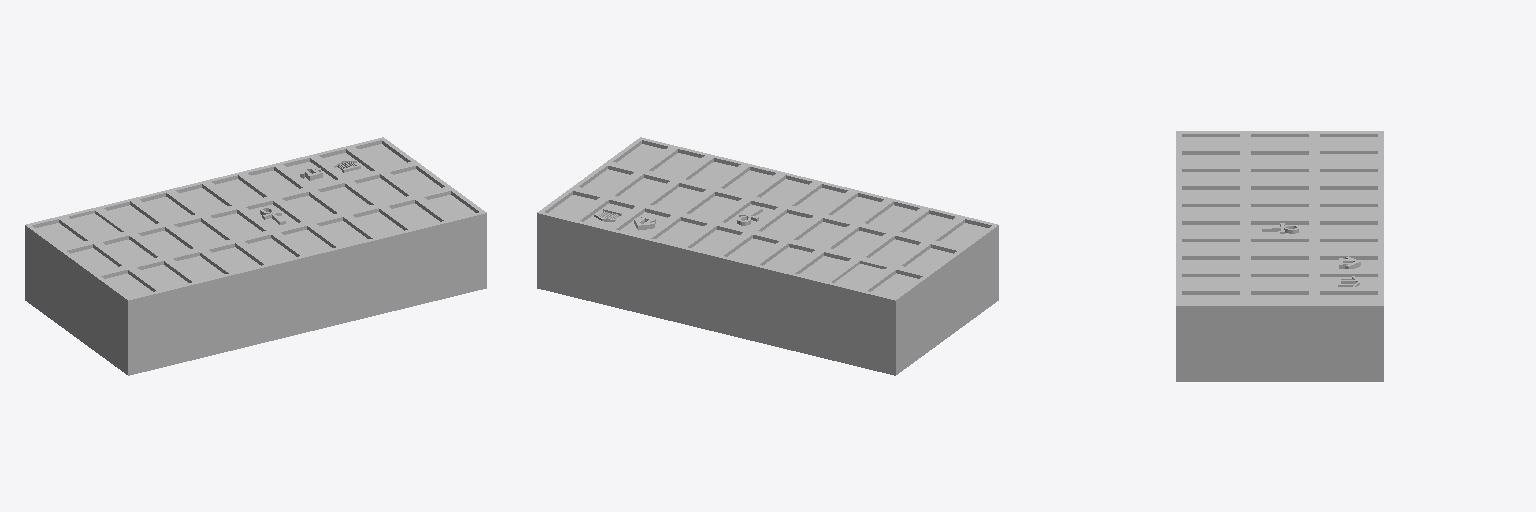
The model's file is senet_board.obj.
3 views of the same model, side by side, from view 1: azimuth 30°, elevation 25°; view 2: azimuth 150°, elevation 25°; view 3: azimuth 270°, elevation 25° (orthographic).
Visible parts, largest first — view 1: Board; view 2: Board; view 3: Board.
Part boxes in pixels (left/top/right/bottom): Board: left=25, top=137, right=486, bottom=375; Board: left=537, top=137, right=998, bottom=375; Board: left=1176, top=131, right=1383, bottom=381.
Bounding box in the file's own units: 2 × 0.4069 × 1.